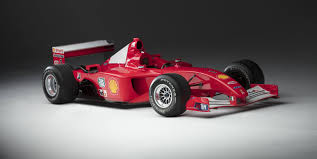FormulaOneCar: (38, 33, 281, 118)
